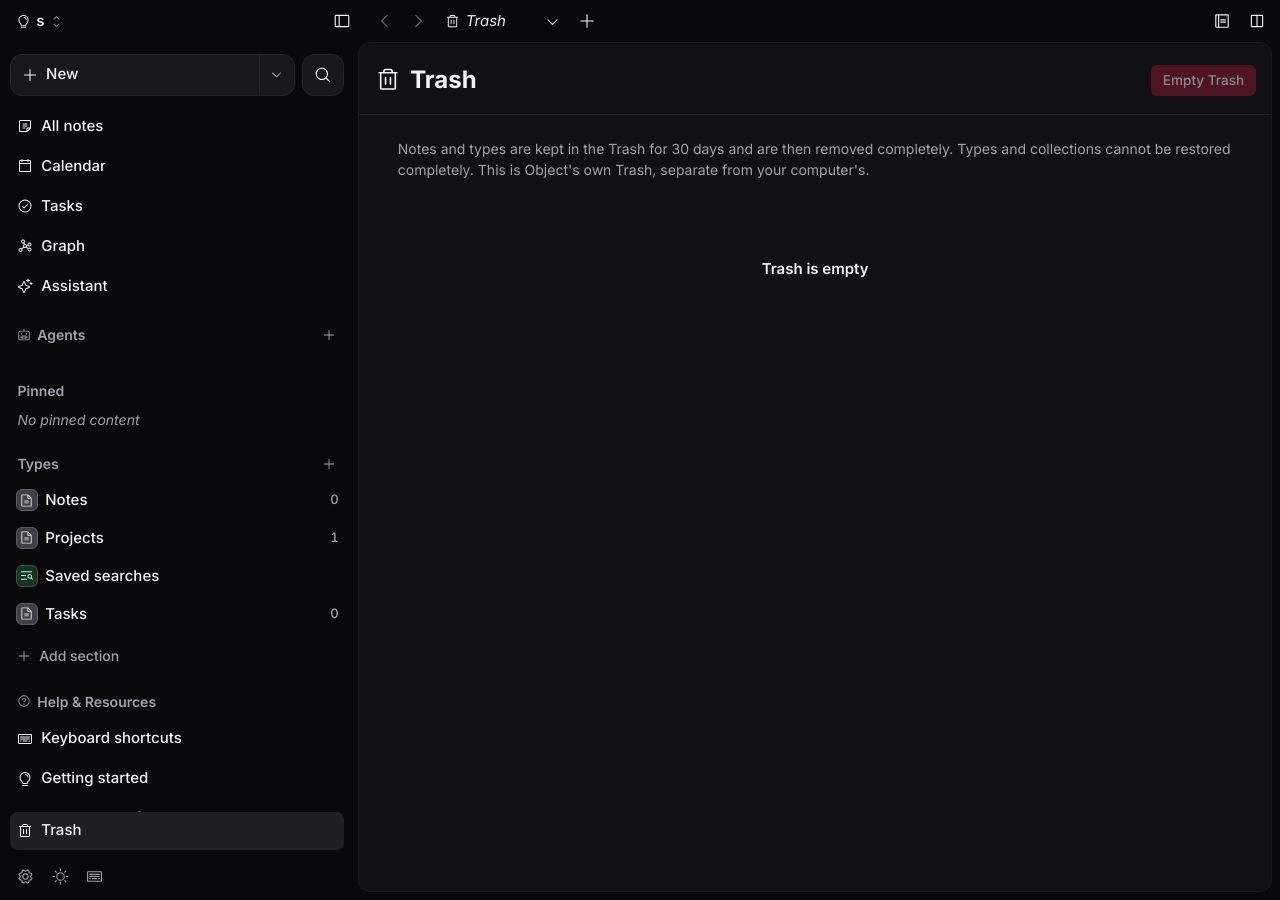
Test: app shortcuts › test the New button makes a Note at once and opens it; the arrow opens the type list
Click the button "New" at (135, 75), box top-left (11, 55), bottom-right (259, 95)
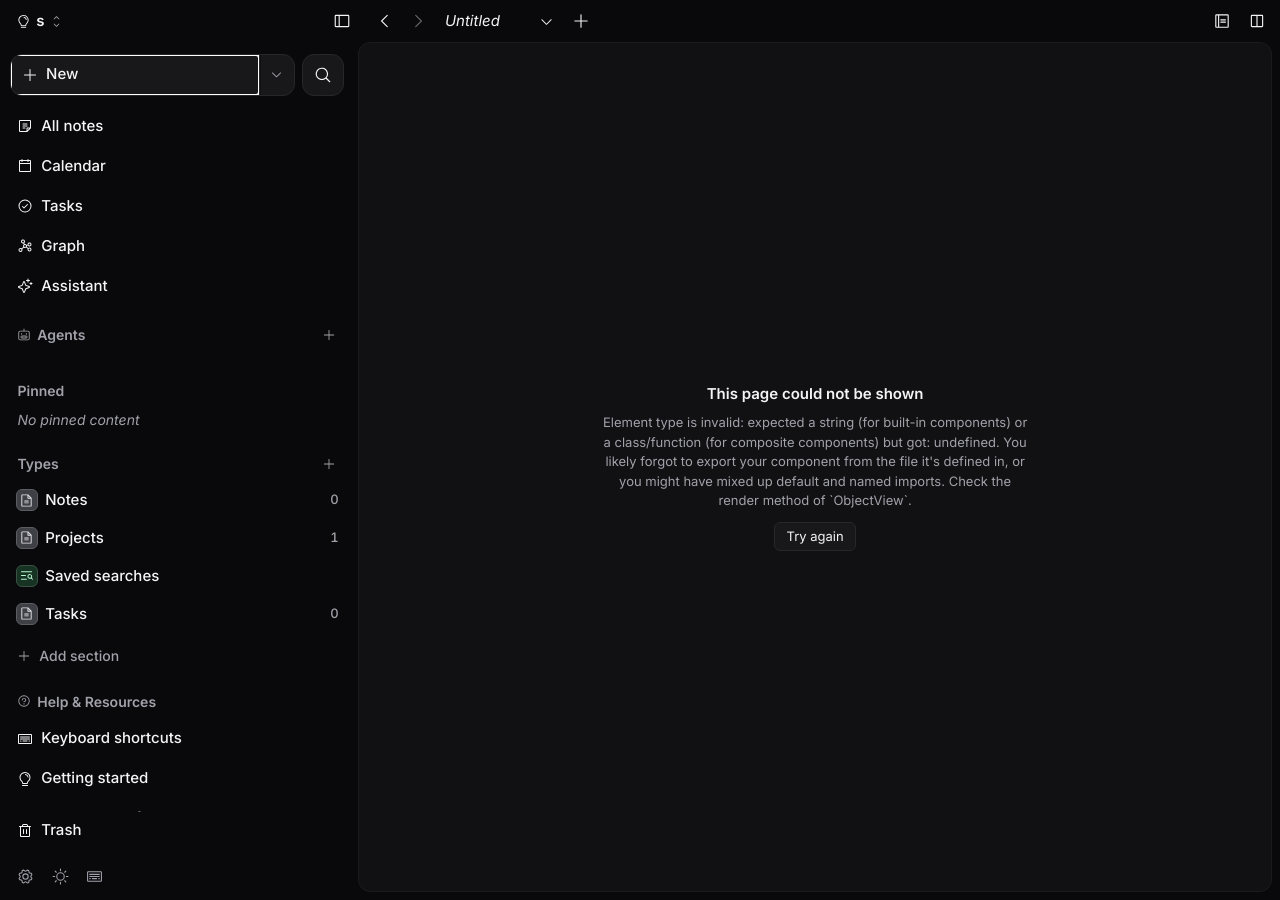
# The arrow: the type list, as before.
Click the button named "Choose a type" at (276, 75), box top-left (259, 55), bottom-right (294, 95)
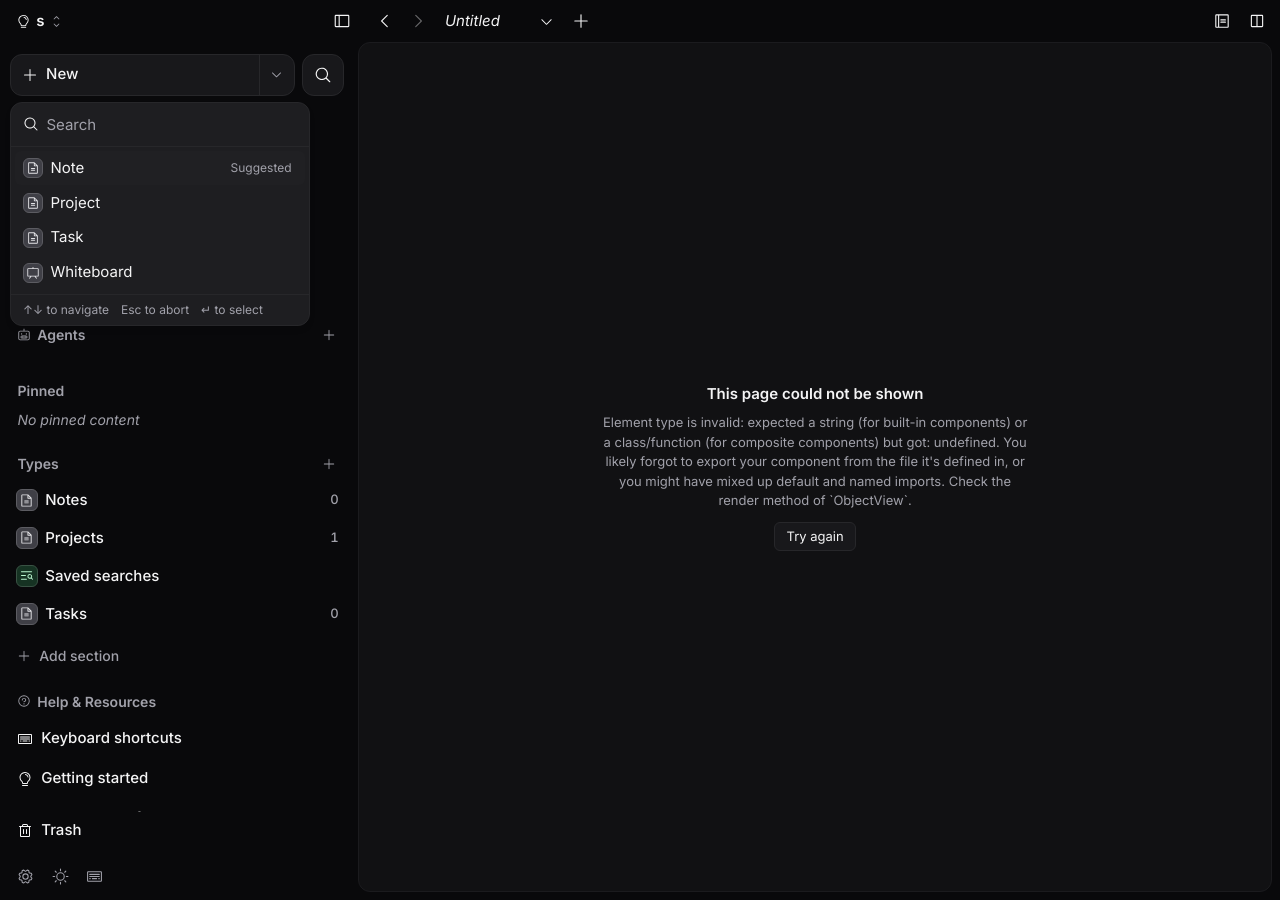
Now the field named "Search types" is shown, box top-left (46, 103), bottom-right (297, 146)
